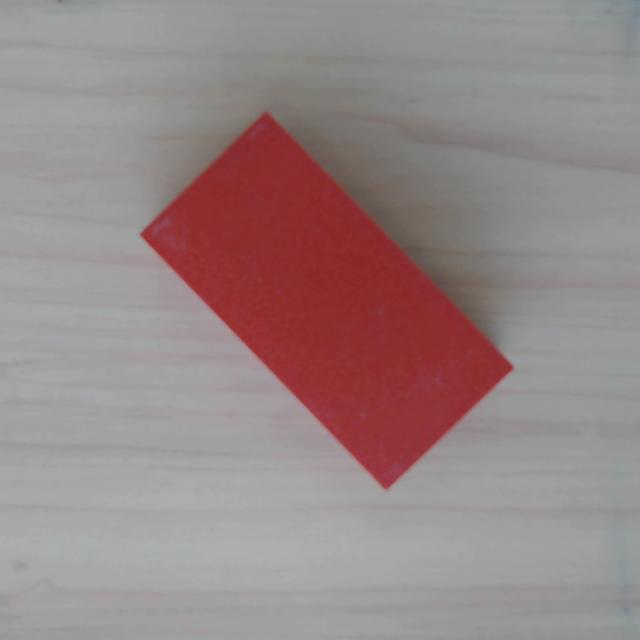Balok-Merah-1005025: (138, 110, 514, 490)
